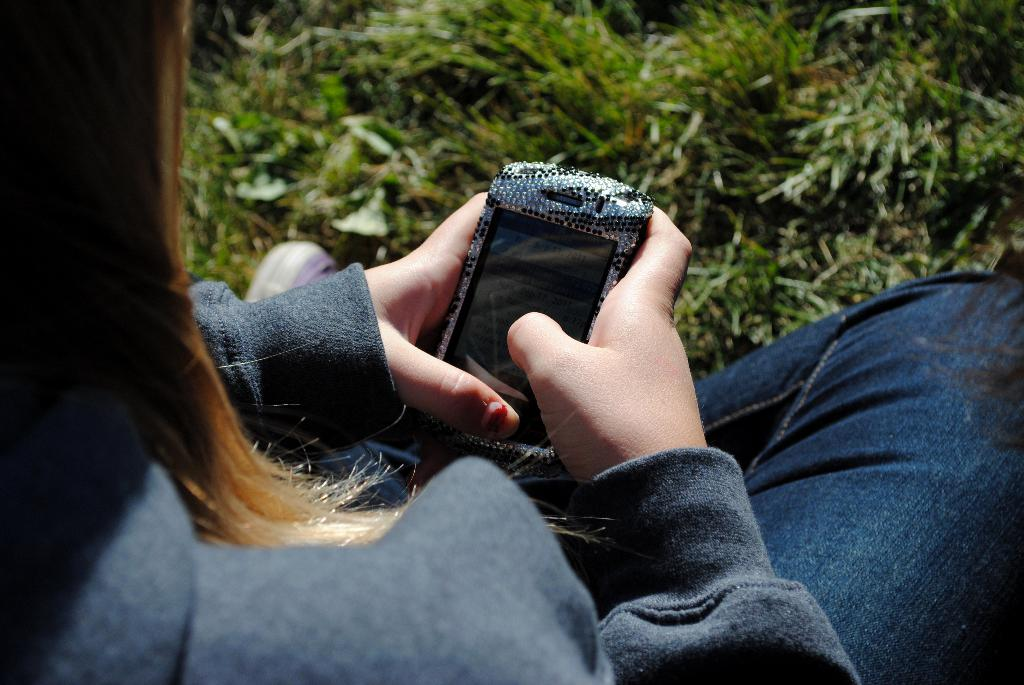Human_hand: (360, 193, 527, 446), (514, 256, 702, 480)
